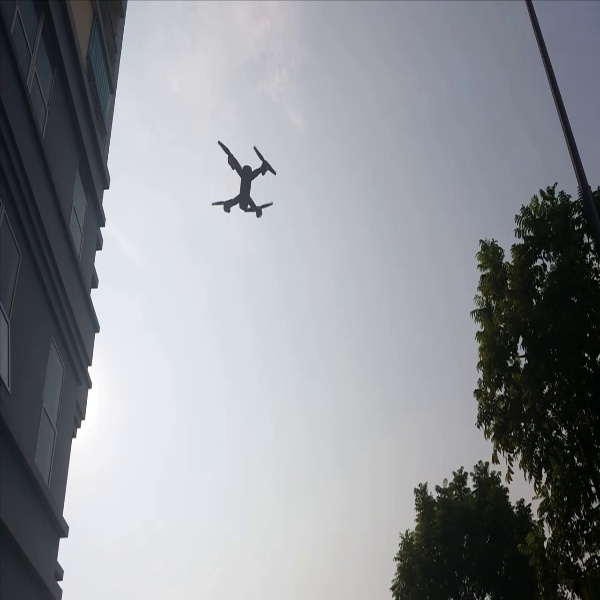drone: (208, 134, 282, 220)
